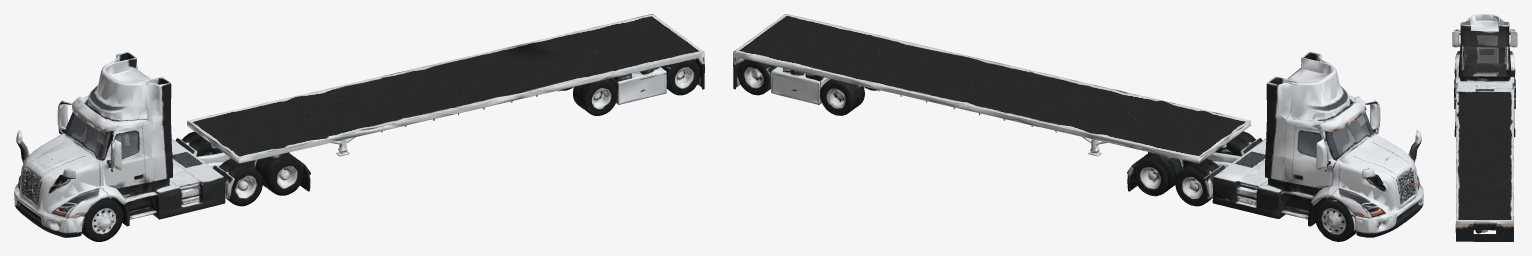
The model's file is freight_semi.glb.
The picture shows the model from 3 angles, left to right: view 1: azimuth 30°, elevation 25°; view 2: azimuth 150°, elevation 25°; view 3: azimuth 270°, elevation 25°; orthographic projection. The views are drawn at different scales.
Bounding box in the file's own units: 1.9 × 0.3876 × 0.2988.
1 material, 1 textured.
